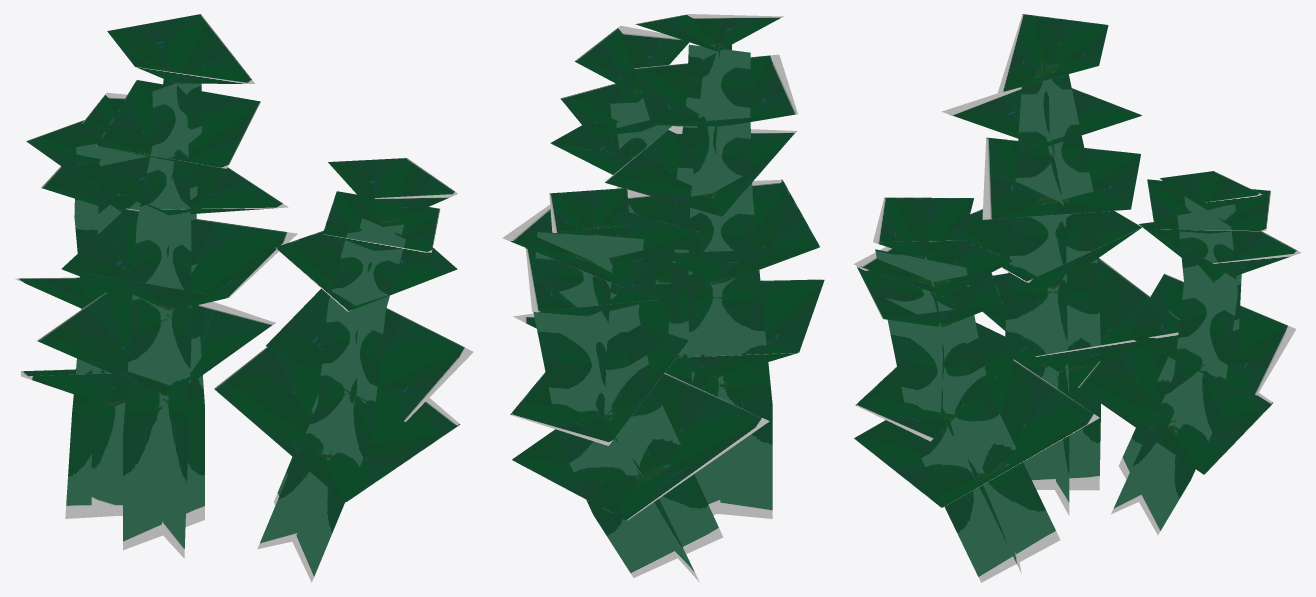
The model's file is PT_Mint_01.fbx.
3 views of the same model, side by side, from view 1: azimuth 30°, elevation 25°; view 2: azimuth 150°, elevation 25°; view 3: azimuth 270°, elevation 25° (orthographic). The views are drawn at different scales.
Parts seen in each view (by area): view 1: PT_Mint_01_LOD0; view 2: PT_Mint_01_LOD0; view 3: PT_Mint_01_LOD0.
Boxes of the visible parts, <box> form: PT_Mint_01_LOD0: <box>15,14,473,582</box>; PT_Mint_01_LOD0: <box>502,14,824,582</box>; PT_Mint_01_LOD0: <box>853,14,1301,582</box>.
Size of what is drawn, in the model's own units: 49.11 by 72.85 by 59.35.
